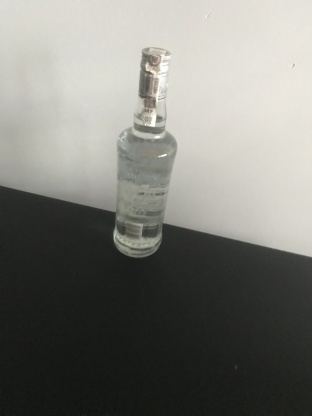nakretka: (136, 44, 172, 104)
